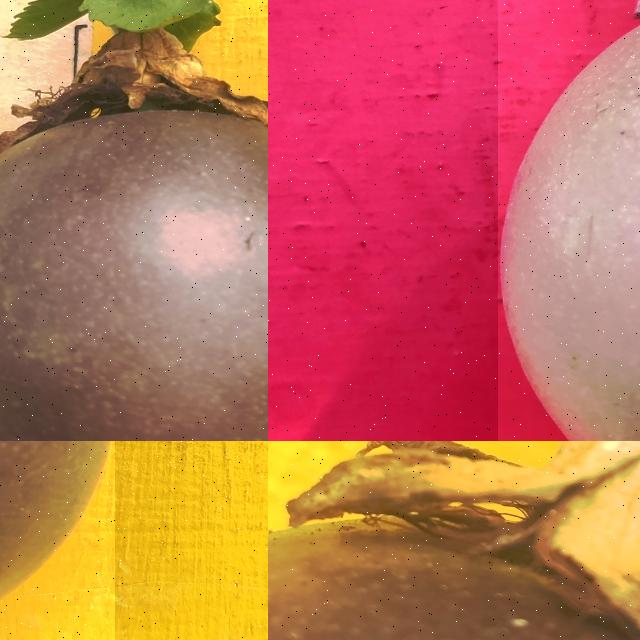Estado-5: (0, 0, 268, 441), (268, 441, 640, 640)
